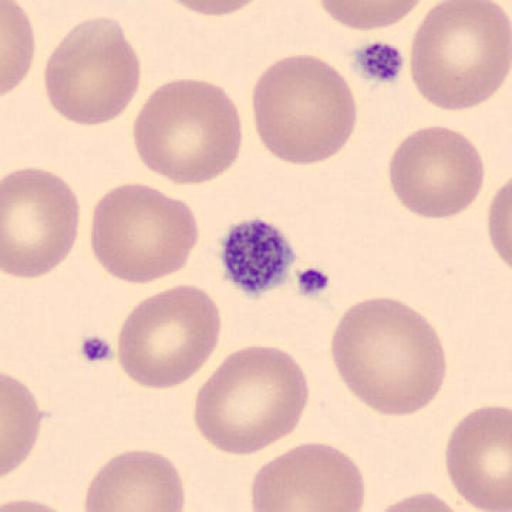Platelet: (218, 215, 298, 297), (349, 38, 408, 86)
RBC: (329, 295, 449, 417), (192, 343, 311, 457), (130, 77, 244, 187), (250, 53, 358, 166), (88, 181, 201, 286), (409, 0, 512, 114), (115, 282, 222, 391), (42, 14, 140, 128), (387, 123, 486, 221), (1, 166, 81, 280), (250, 440, 366, 512), (445, 403, 512, 512), (82, 447, 186, 512), (2, 371, 42, 478), (1, 0, 37, 99), (315, 0, 426, 32), (486, 176, 512, 276), (367, 489, 475, 512), (164, 0, 266, 18), (0, 495, 77, 512)
